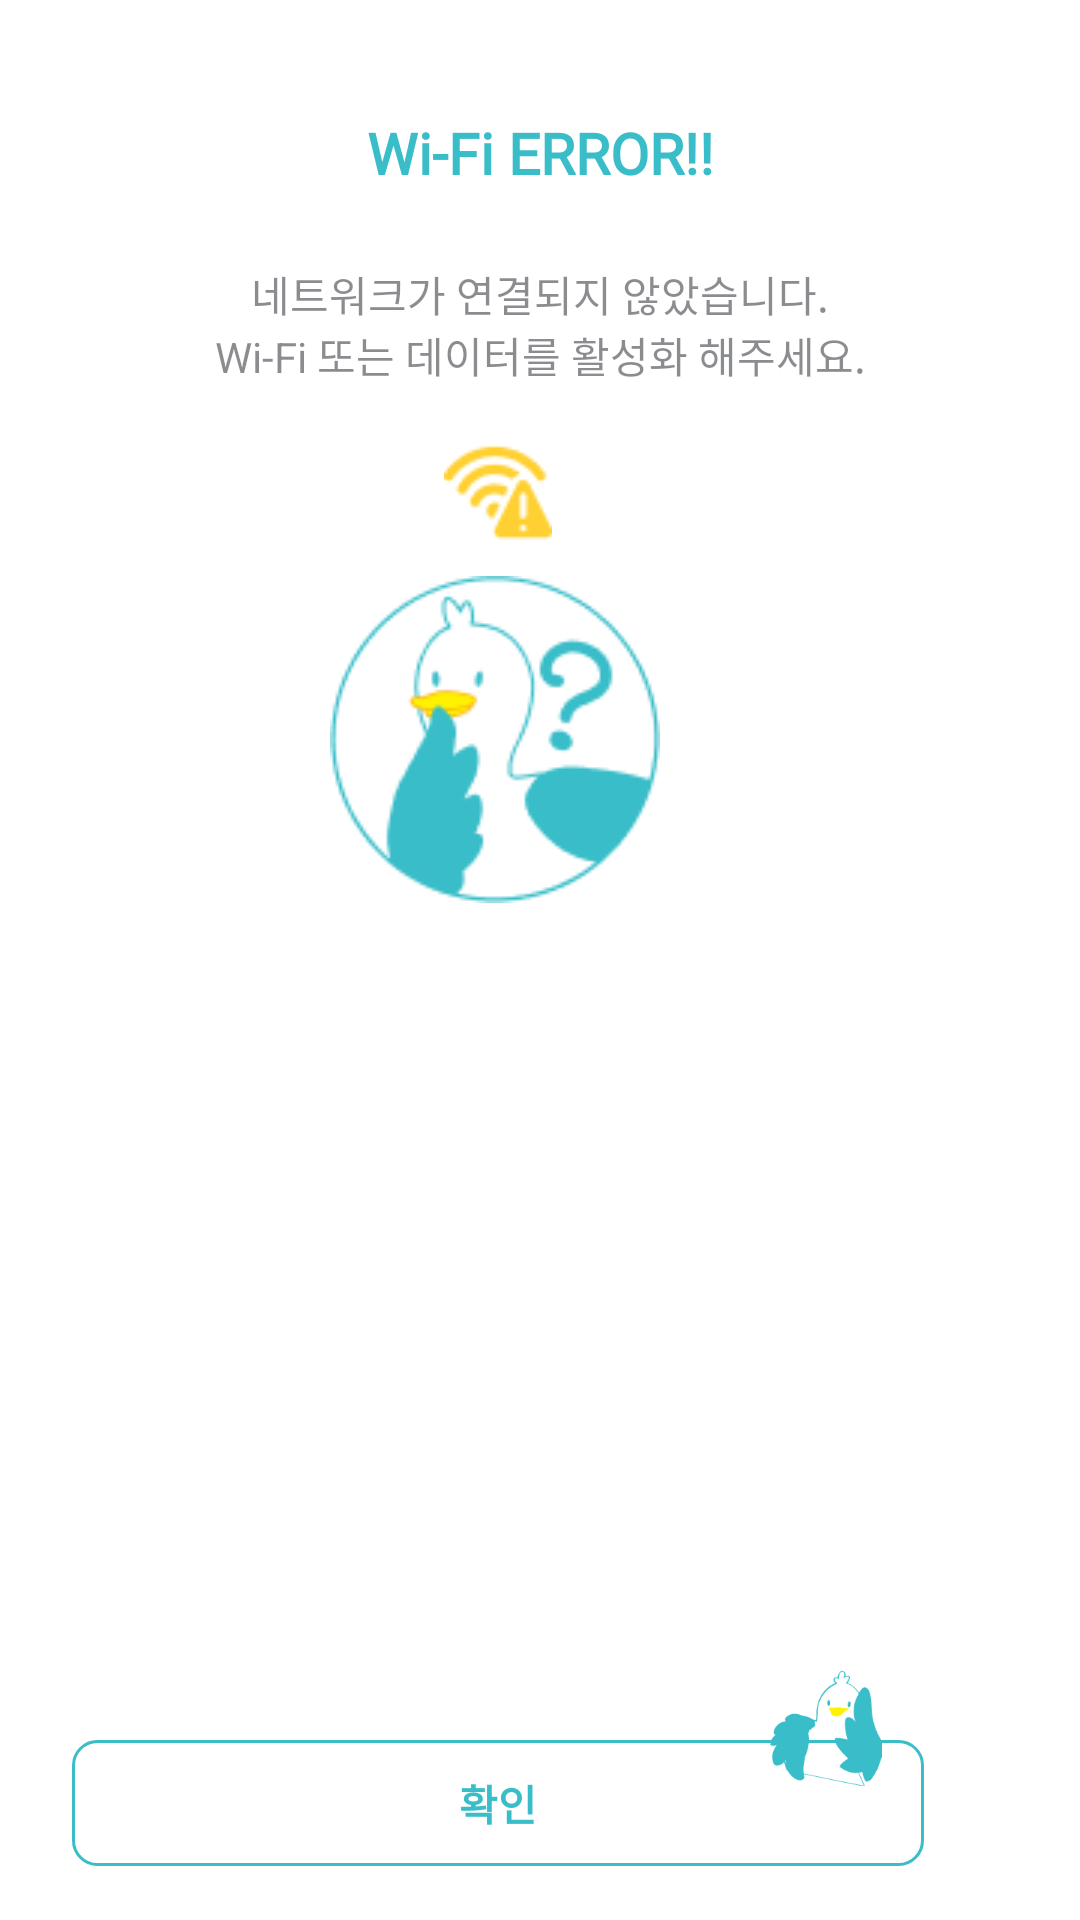

Icon bounding boxes for this 1080 x 1920 phone screenshot, format (x1, y1, x2, y2):
duck with question mark: (330, 576, 660, 903)
wifi error: (444, 446, 552, 540)
